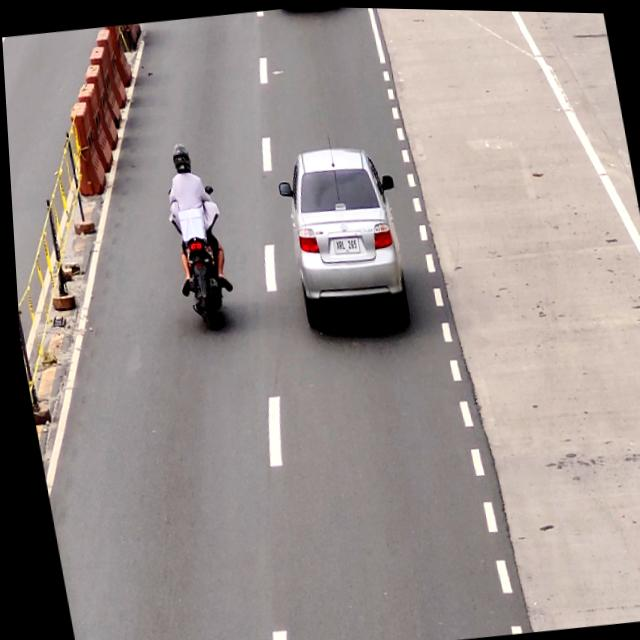Car: (272, 142, 413, 337)
License-Plate: (329, 233, 358, 256)
Motorcycle: (159, 140, 231, 327)
